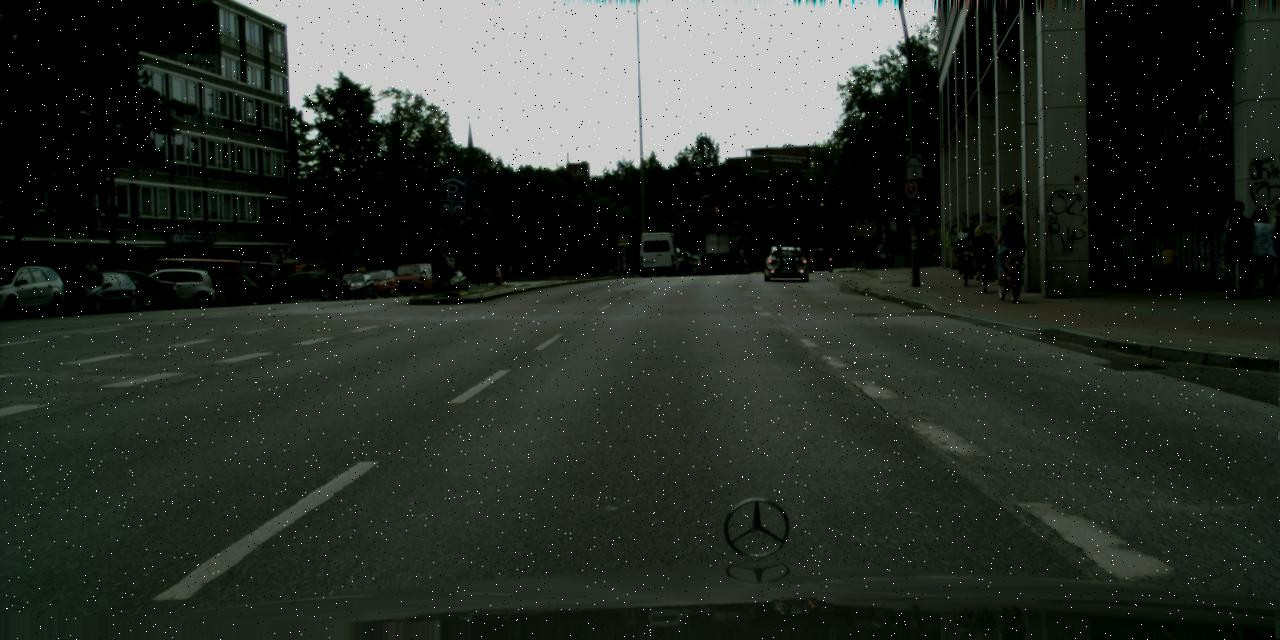ped: (1217, 200, 1257, 298), (1242, 207, 1277, 295), (996, 210, 1024, 280), (1260, 202, 1279, 290), (971, 224, 994, 279), (954, 226, 975, 277), (1157, 242, 1174, 286), (83, 259, 96, 291), (586, 262, 609, 278), (472, 264, 481, 286), (481, 266, 488, 286), (887, 247, 894, 266), (494, 265, 501, 284)
